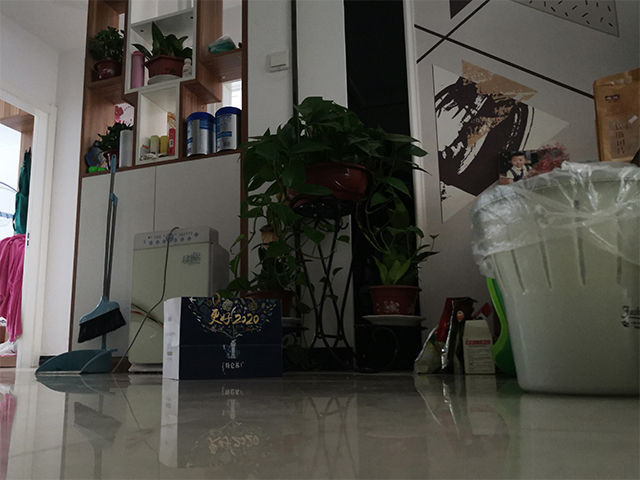cabinet: (64, 150, 252, 377)
trashcan: (469, 161, 640, 400)
wire: (107, 224, 182, 375)
